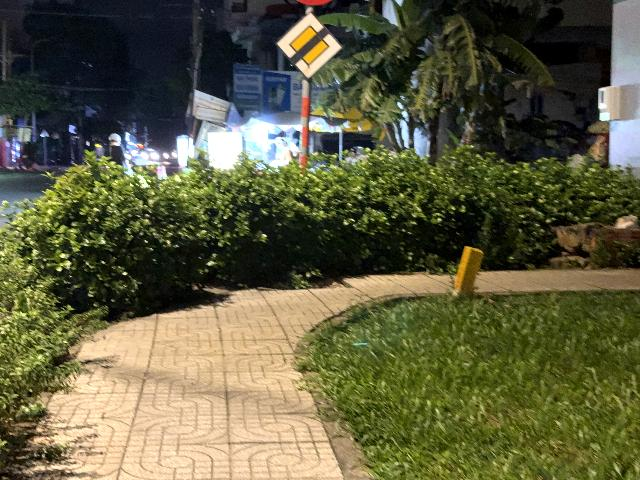het-duong-uu-tien: (274, 13, 343, 81)
